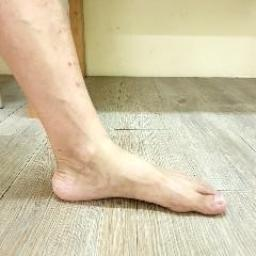Medial View -Left Foot-: (32, 110, 242, 239)
